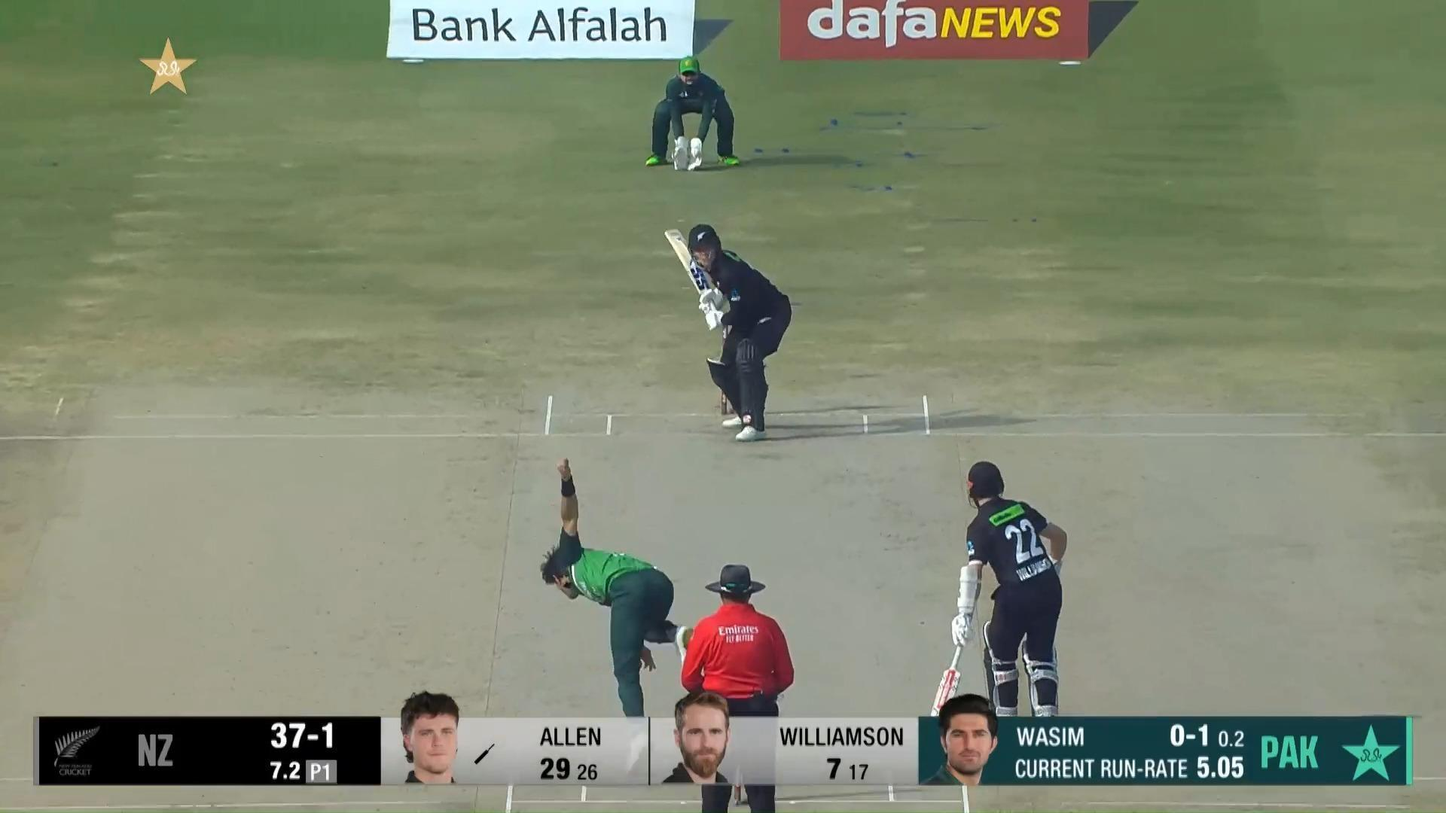BM 1: (663, 225, 792, 442)
BO: (536, 454, 702, 782)
